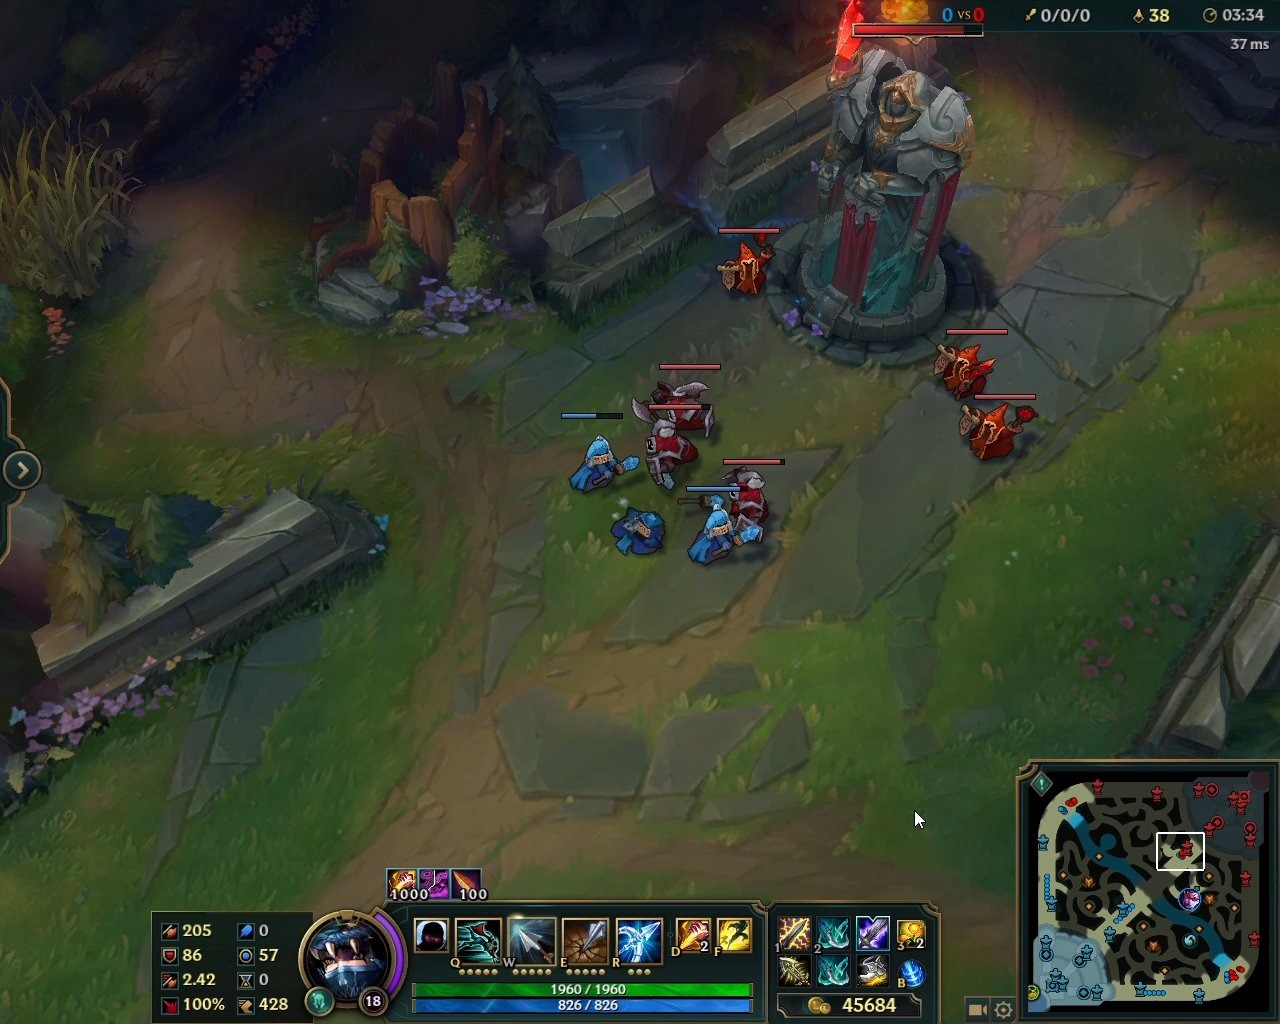EnemyMinion: (625, 397, 715, 490), (631, 356, 725, 437), (926, 328, 1011, 400), (955, 393, 1040, 463), (723, 455, 786, 544), (716, 225, 782, 300)
Tower: (787, 6, 993, 341)
